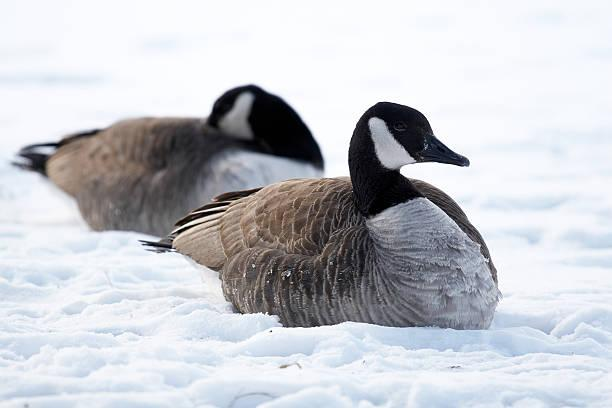Canadian-Goose: (139, 100, 501, 338), (16, 81, 325, 245)
